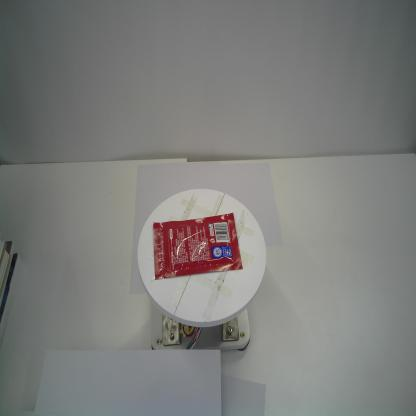Seasoner: (153, 212, 243, 280)
